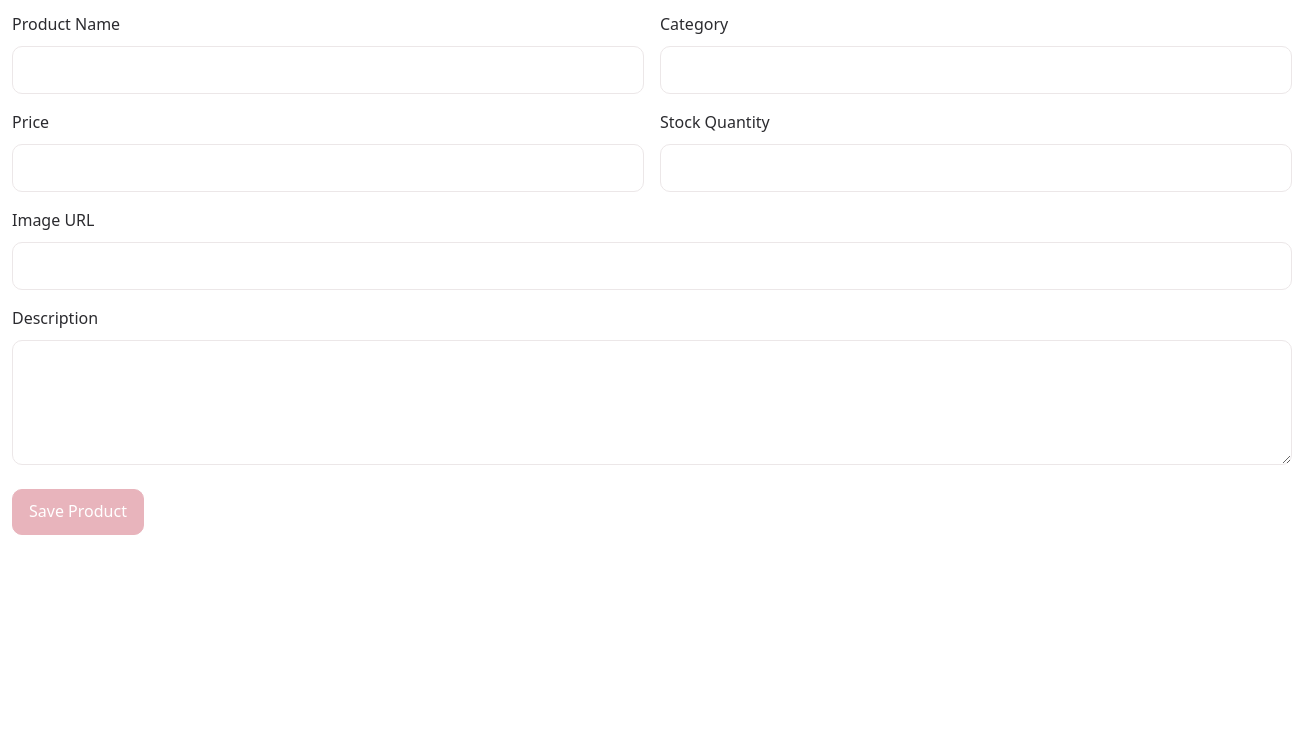
Test case: ProductForm › shows validation errors for empty required fields
Click the button "Save Product". click: {"x": 78, "y": 512}
box: [12,489,144,536]
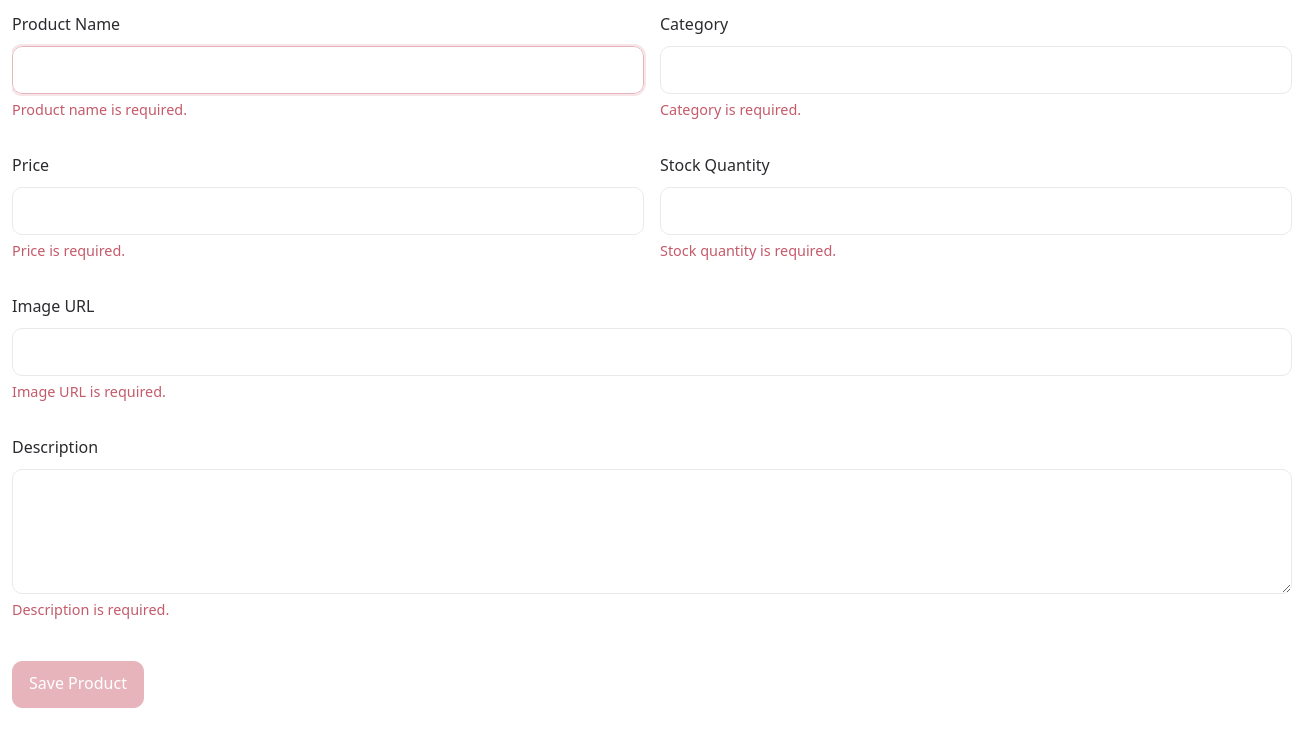
Now the text "Product name is required." is shown, box [12,100,187,119]
Now the text "Category is required." is shown, box [660,100,801,119]
Now the text "Price is required." is shown, box [12,241,125,260]
